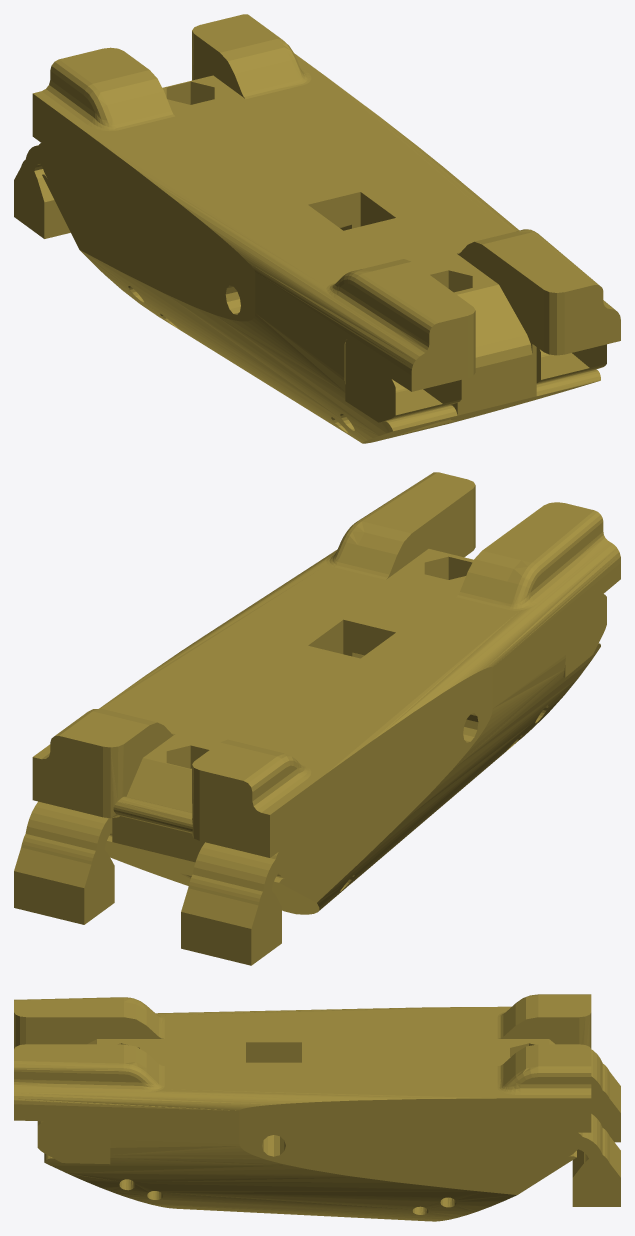
Rendered from finger_base.obj.
The picture shows the model from 3 angles, top to bottom: view 1: azimuth 30°, elevation 25°; view 2: azimuth 150°, elevation 25°; view 3: azimuth 270°, elevation 25°; orthographic projection. The views are drawn at different scales.
Visible parts, largest first — view 1: FingerAssem3; view 2: FingerAssem3; view 3: FingerAssem3.
Boxes of the visible parts, bbox=[...] form: FingerAssem3: bbox=[14, 14, 620, 443]; FingerAssem3: bbox=[14, 472, 620, 965]; FingerAssem3: bbox=[14, 994, 620, 1221].
Bounding box in the file's own units: 0.027 × 0.024 × 0.0756.
